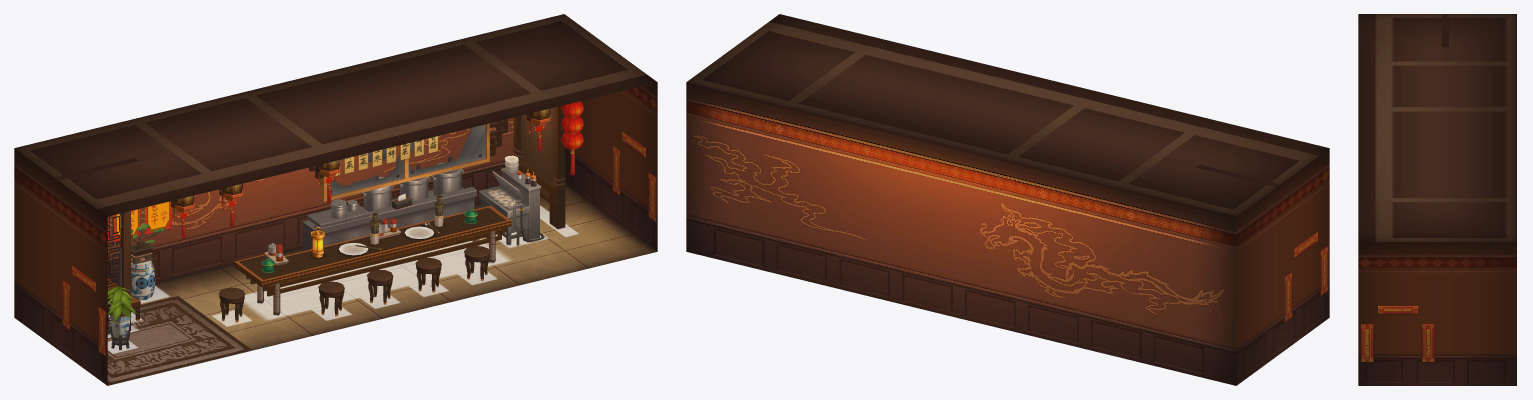
The model's file is restaurant.glb.
The picture shows the model from 3 angles, left to right: view 1: azimuth 30°, elevation 25°; view 2: azimuth 150°, elevation 25°; view 3: azimuth 270°, elevation 25°; orthographic projection. The views are drawn at different scales.
Visible parts, largest first — view 1: ROOM_room, ROOM_floor, furni_restaurant_barTable_01, furni_restaurant_carpet_01, furni_restaurant_stockPotTable_01, furni_restaurant_curtain_01, shadow.003, furni_restaurant_fryingTable_01, furni_restaurant_ceiling1_01, furni_restaurant_ceiling1_02, ROOM_LDoor, ROOM_RDoor (+11 smaller); view 2: ROOM_room, ROOM_LDoor; view 3: ROOM_room, ROOM_RDoor, furni_restaurant_screen_01.
Boxes of the visible parts, x1,y1,x2,y2 form: ROOM_room: (14,14,657,385); ROOM_floor: (107,184,657,385); furni_restaurant_barTable_01: (234,195,511,315); furni_restaurant_carpet_01: (107,296,251,384); furni_restaurant_stockPotTable_01: (302,156,476,251); furni_restaurant_curtain_01: (513,101,583,229); shadow.003: (244,238,511,320); furni_restaurant_fryingTable_01: (479,155,544,246); furni_restaurant_ceiling1_01: (309,119,507,201); furni_restaurant_ceiling1_02: (327,124,485,196); ROOM_LDoor: (74,285,93,375); ROOM_RDoor: (625,151,643,241); ROOM_room: (686,14,1329,385); ROOM_LDoor: (1297,251,1315,341); ROOM_room: (1358,14,1516,385); ROOM_RDoor: (1381,320,1414,385); furni_restaurant_screen_01: (1442,14,1448,47).
Bounding box in the file's own units: 7.52 × 2.2 × 2.22.
Materials: 7 (7 with a texture image).
